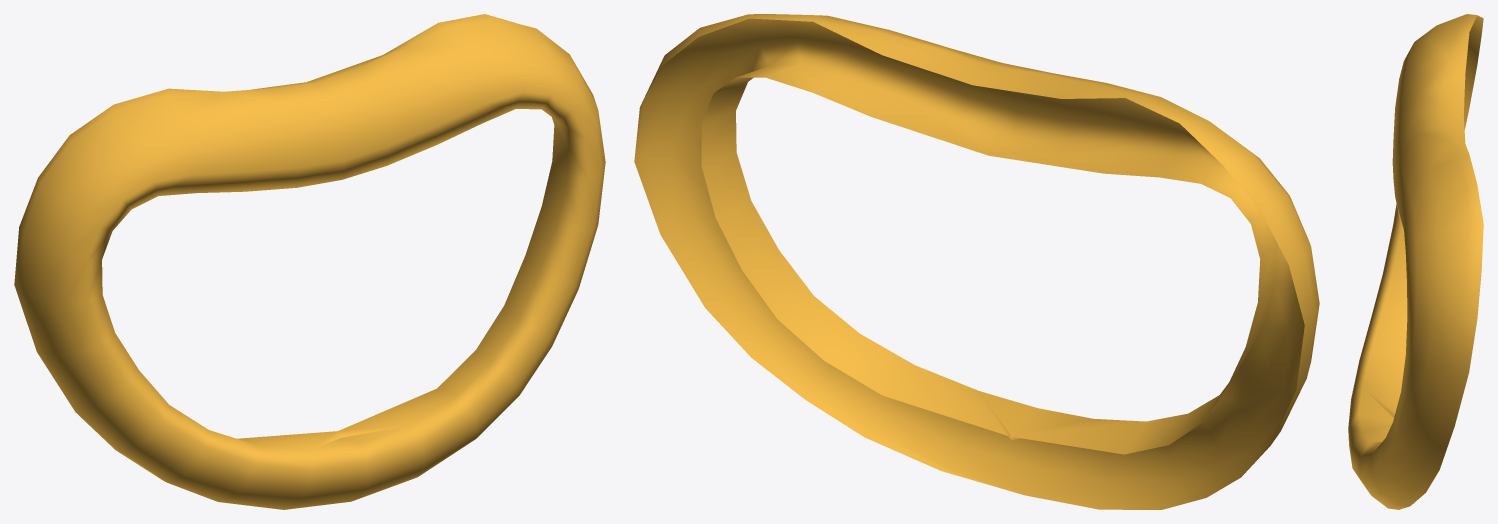
Rendered from mouth.obj.
3 views of the same model, side by side, from view 1: azimuth 30°, elevation 25°; view 2: azimuth 150°, elevation 25°; view 3: azimuth 270°, elevation 25° (orthographic). The views are drawn at different scales.
Visible parts, largest first — view 1: mouth Jake; view 2: mouth Jake; view 3: mouth Jake.
Boxes of the visible parts, box(x1,y1,x2,y2) form: mouth Jake: box(14, 14, 605, 509); mouth Jake: box(634, 14, 1319, 509); mouth Jake: box(1348, 14, 1483, 509).
Size of the model in its own units: 1.76 by 1.19 by 0.3828.
